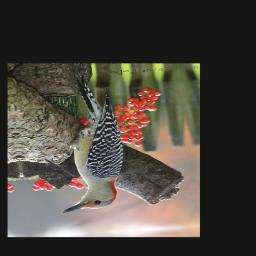Woodpecker: (37, 68, 132, 217)
